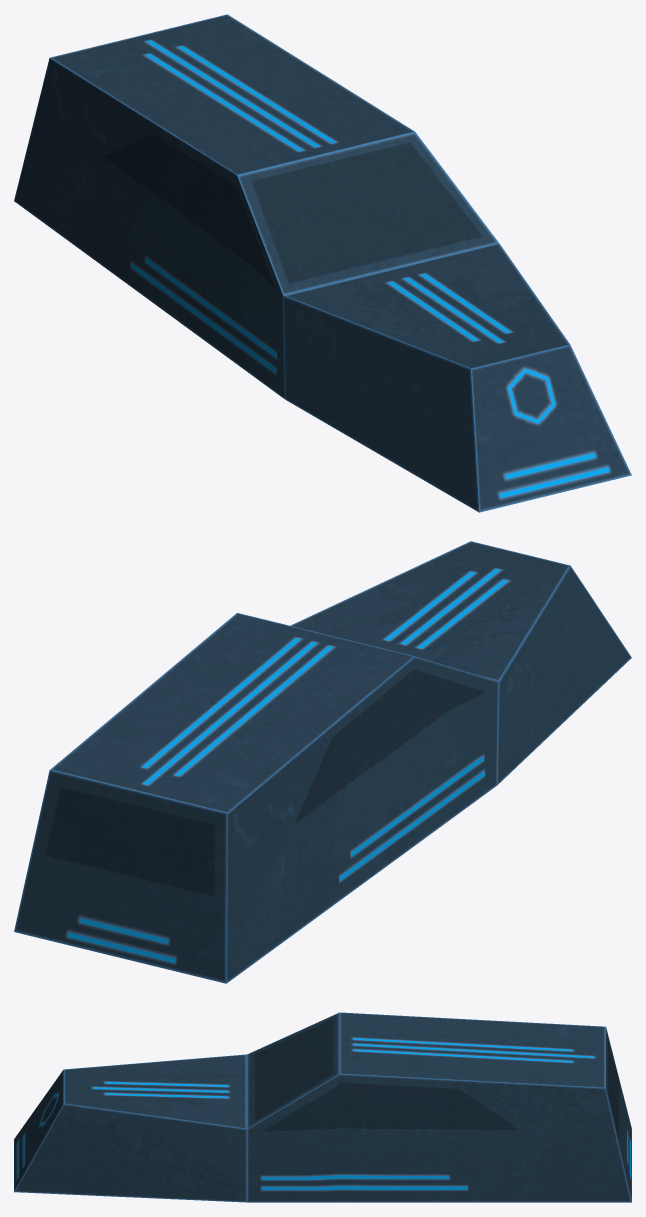
The model's file is Car 01.fbx.
3 renders of one model, top to bottom at view 1: azimuth 30°, elevation 25°; view 2: azimuth 150°, elevation 25°; view 3: azimuth 270°, elevation 25°, orthographic. The views are drawn at different scales.
Parts seen in each view (by area): view 1: Car1; view 2: Car1; view 3: Car1.
Part boxes in pixels (box(x1,y1,x2,y2)): Car1: box(14, 14, 631, 512); Car1: box(14, 541, 631, 983); Car1: box(14, 1012, 631, 1202).
Bounding box in the file's own units: 4.74 × 3.62 × 16.56.
